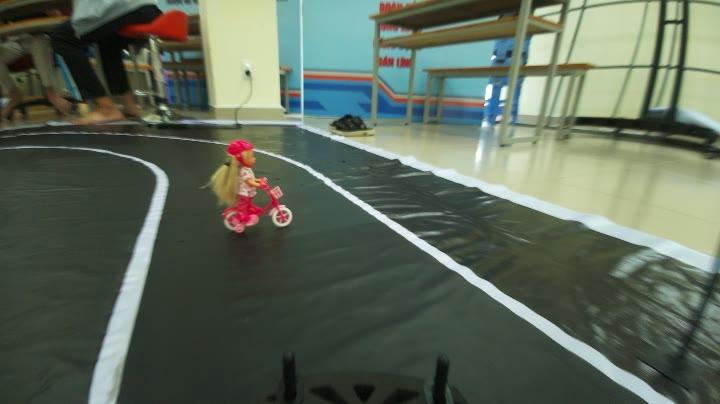pedestrian: (192, 142, 302, 225)
